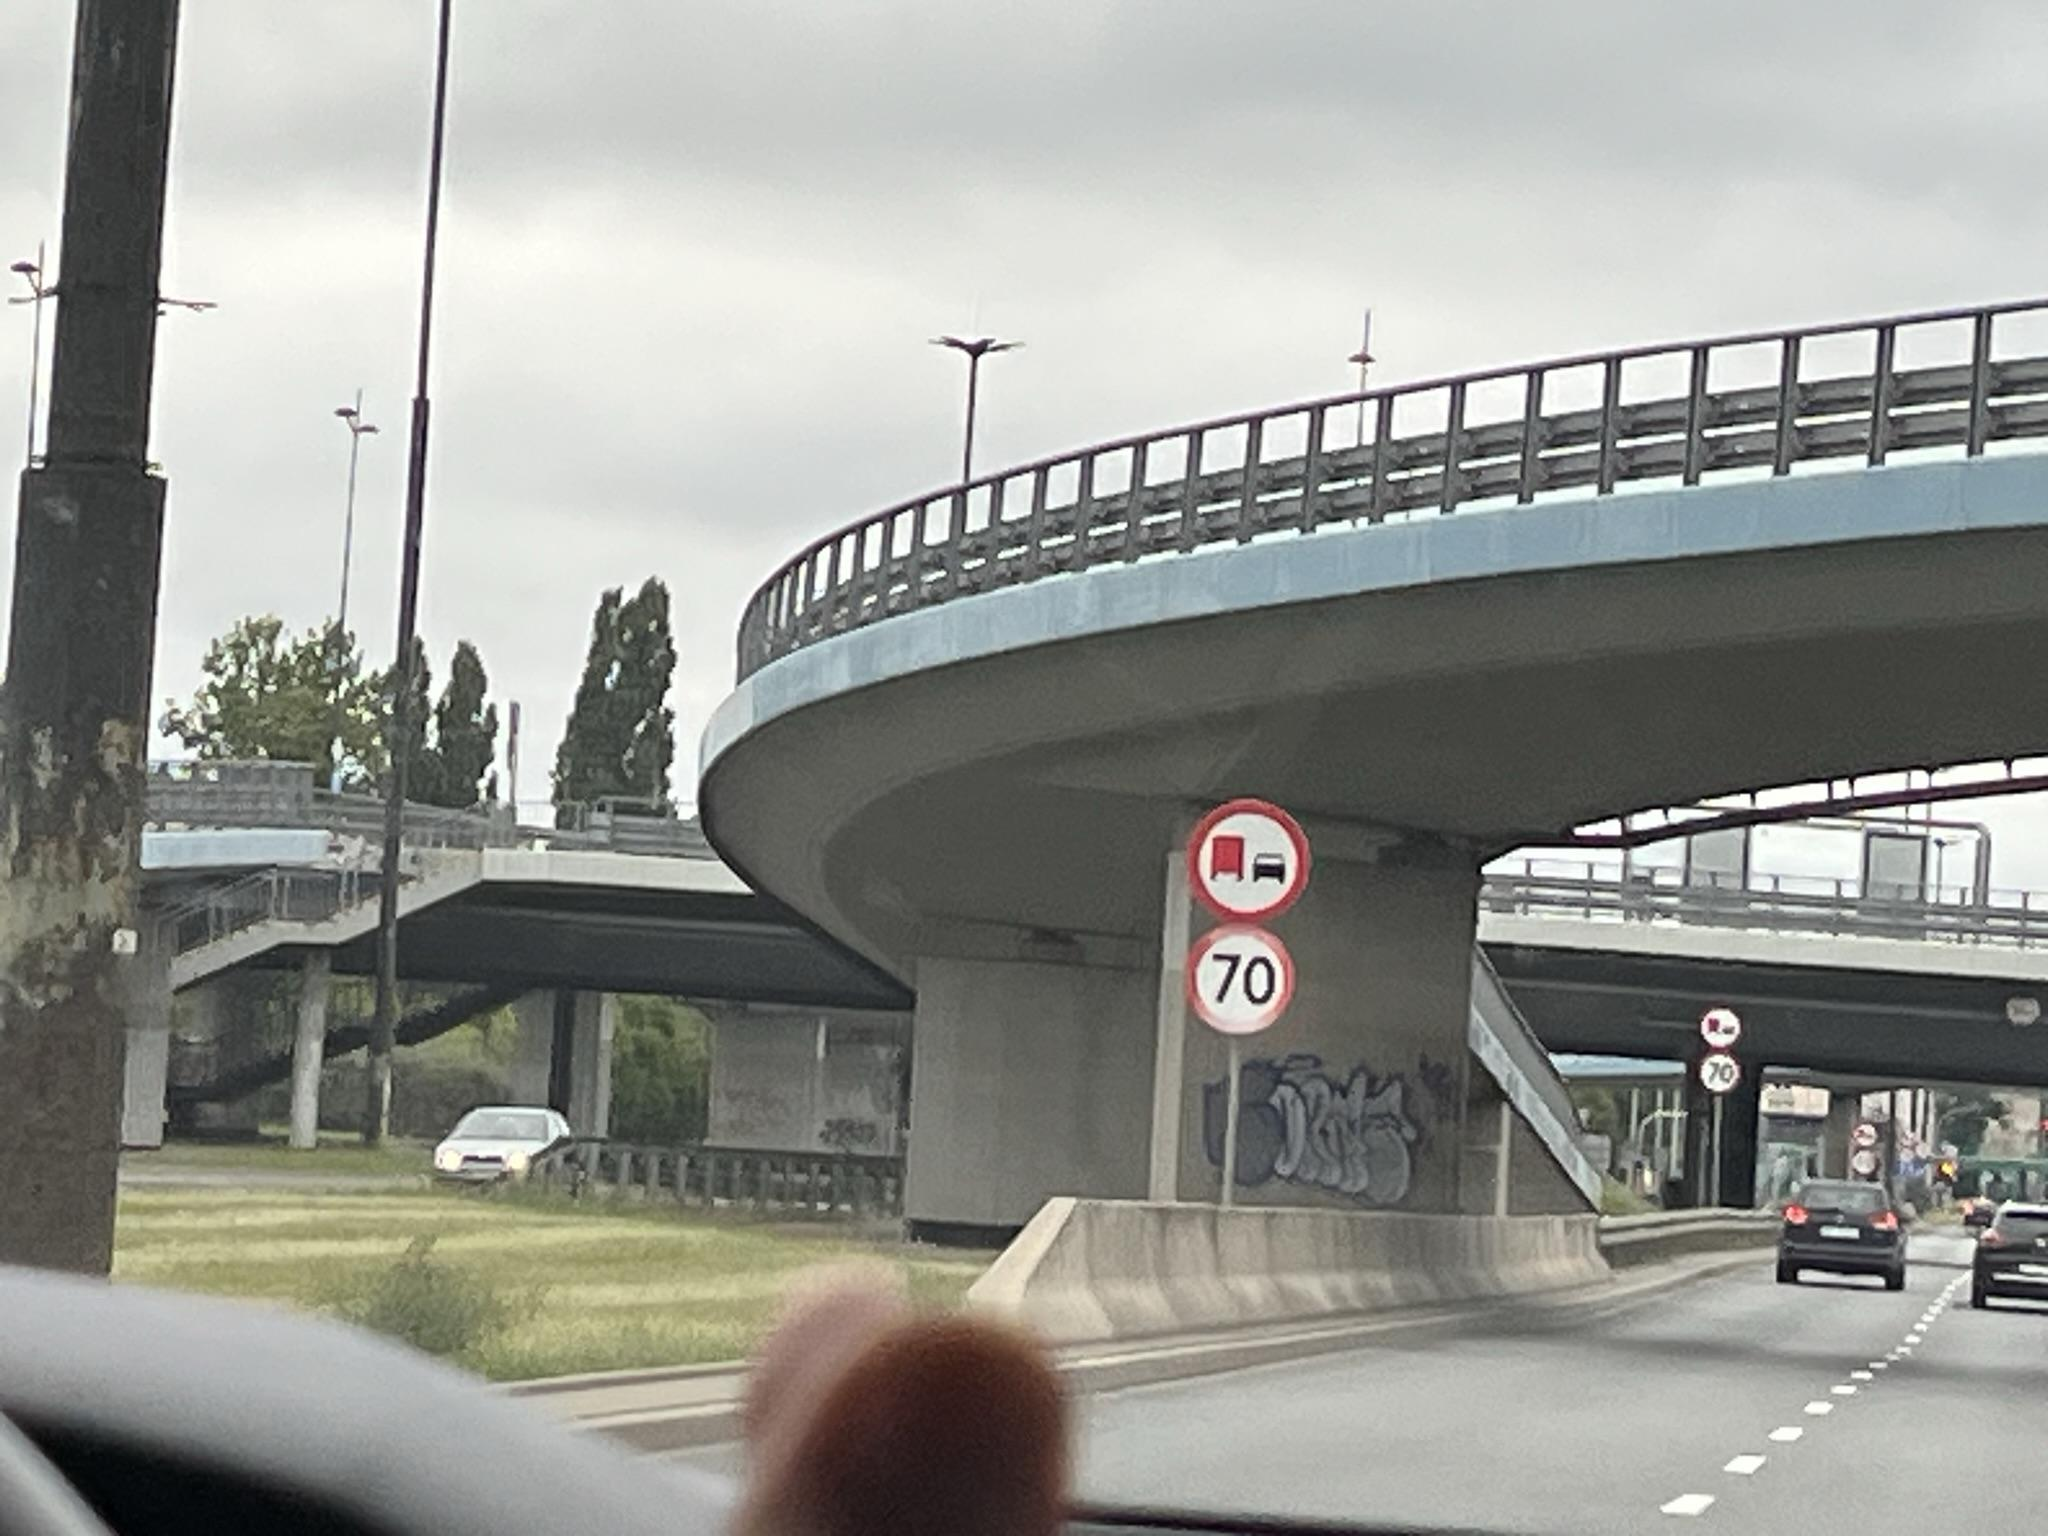prohibitory: (1182, 796, 1312, 924), (1182, 924, 1300, 1036), (1699, 1005, 1744, 1052), (1697, 1053, 1743, 1096), (1852, 1120, 1880, 1149)
